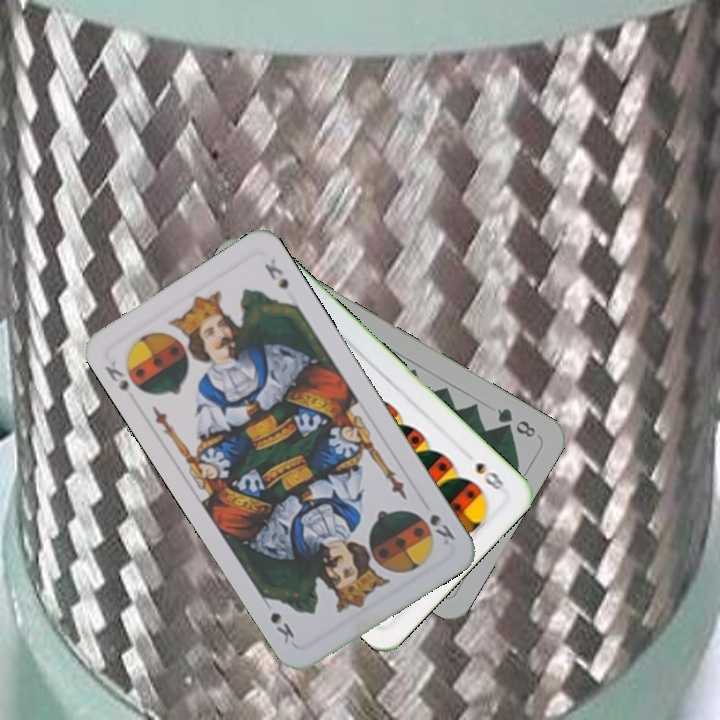G8: (493, 404, 539, 440)
S8: (472, 458, 511, 493)
SK: (101, 357, 131, 395), (425, 510, 458, 543)
